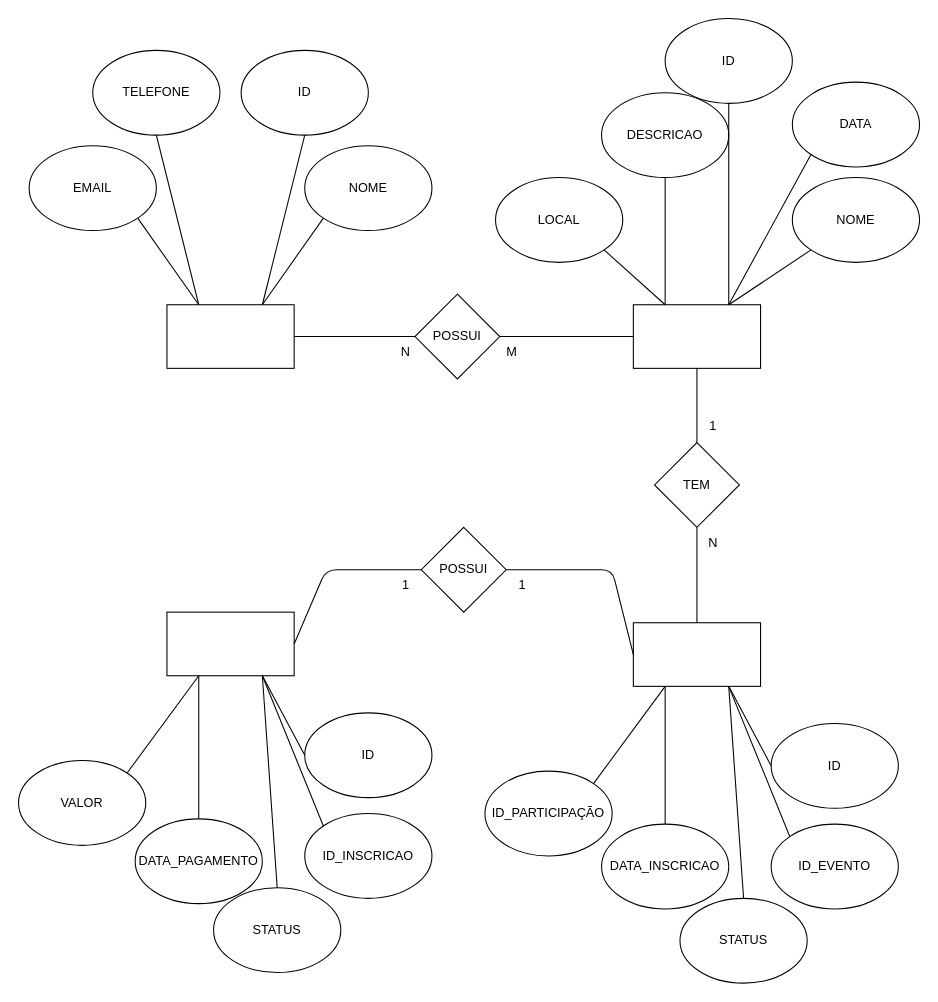
The diagram is 938 pixels wide and 1002 high, and some of its shapes have lost their labels. The box of each missing label's shape, as (x1, y1, x2, y2) in pixels:
EVENTO: (632, 304, 761, 368)
INSCRICAO: (632, 622, 761, 686)
PAGAMENTO: (166, 611, 294, 676)
PARTICIPANTE: (166, 304, 294, 368)
